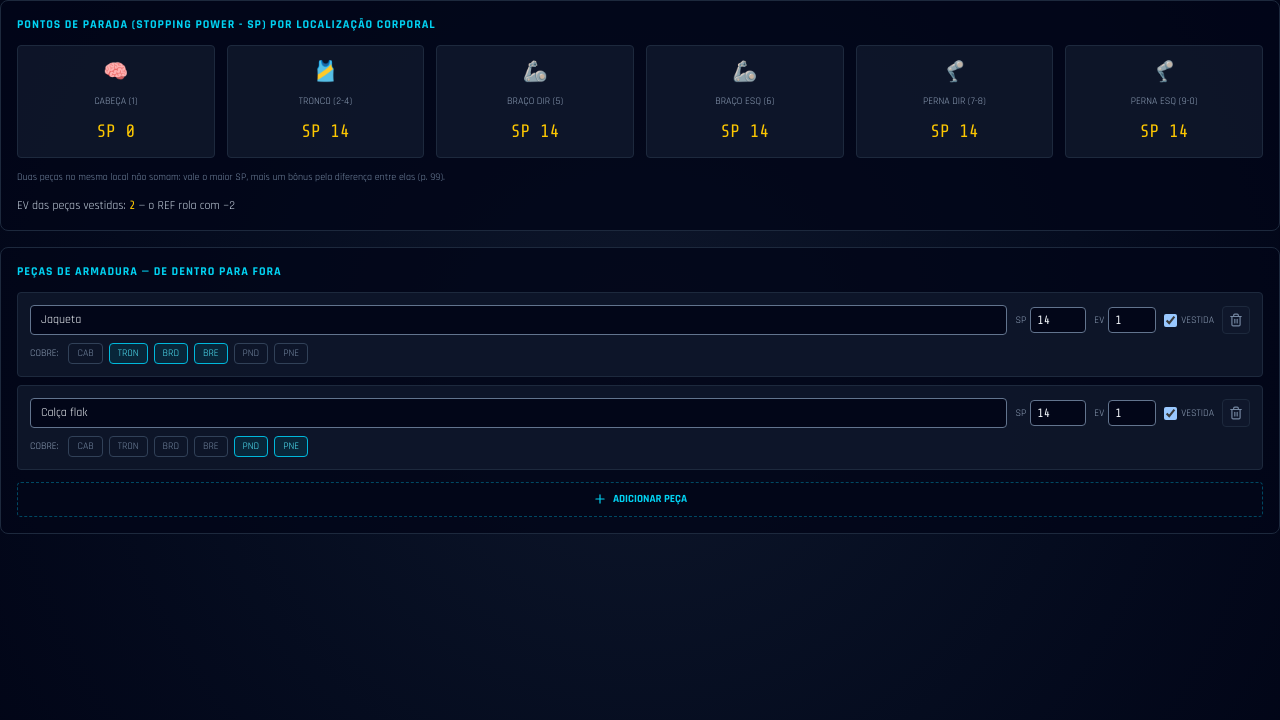
K.2b — a armadura por peça na ficha › K.2c — o EV das peças vestidas aparece, e sai quando a peça sai
This screenshot has width=1280, height=720.
Check: the element with test id "armor-ev" shows "REF rola com −2", box x1=136 y1=198 x2=235 y2=213
Click the checkbox named "calça flak vestida" at {"x": 1171, "y": 413}, box x1=1164 y1=406 x2=1177 y2=420
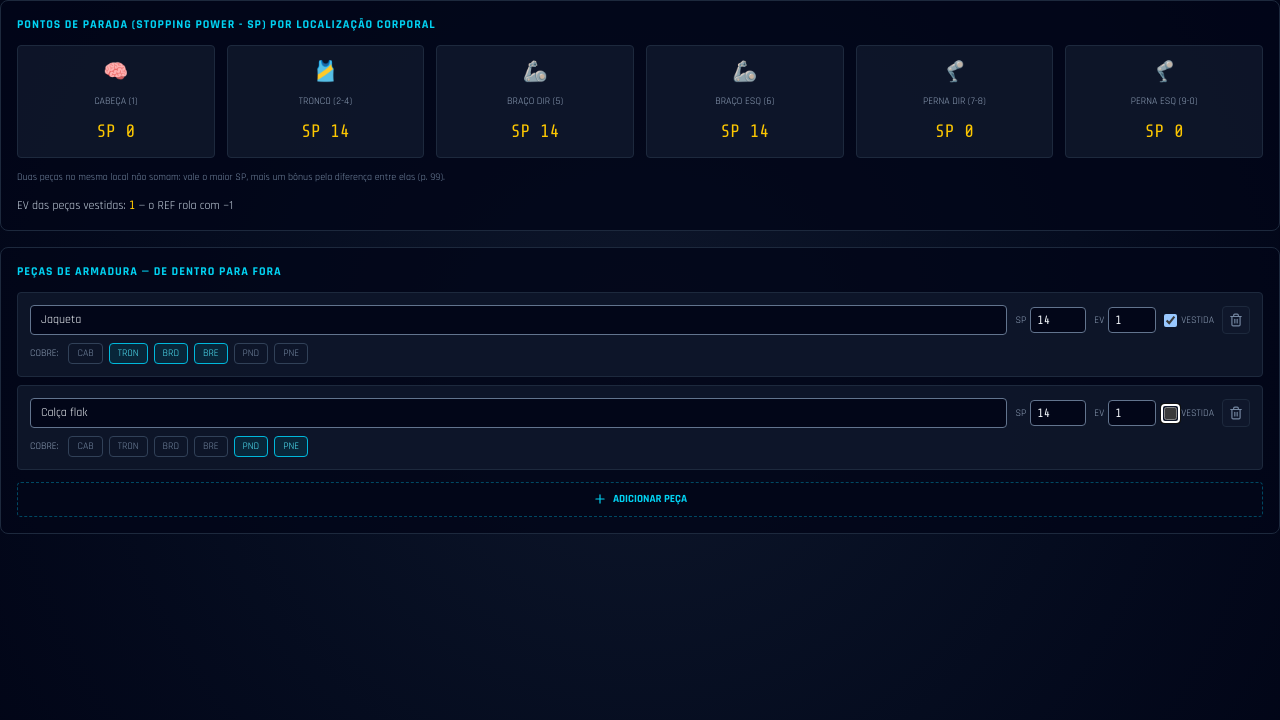
Check: the element with test id "armor-ev" shows "REF rola com −1", box x1=136 y1=198 x2=233 y2=213
